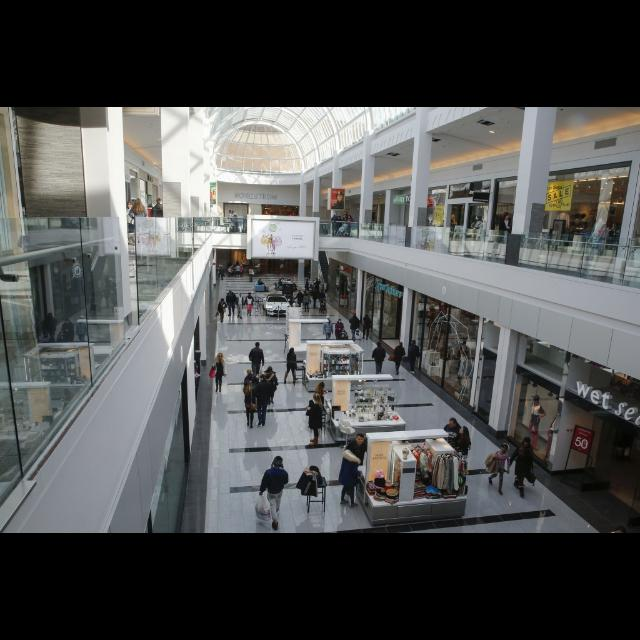head: (274, 457, 284, 469), (350, 444, 360, 456), (356, 434, 366, 446), (449, 419, 457, 429), (459, 427, 469, 435), (501, 443, 509, 453), (524, 438, 532, 448), (313, 393, 321, 402), (258, 375, 266, 383), (135, 198, 143, 206), (504, 212, 512, 220), (319, 383, 325, 391), (244, 380, 252, 386), (247, 368, 253, 376), (65, 318, 71, 326), (218, 354, 224, 361), (157, 198, 163, 205), (411, 341, 417, 347), (128, 202, 134, 208), (268, 367, 272, 373), (256, 342, 260, 348), (339, 318, 343, 324), (48, 314, 54, 318), (80, 316, 84, 322), (290, 348, 294, 352), (378, 342, 382, 346), (399, 342, 403, 346), (365, 314, 369, 318), (354, 313, 358, 317), (326, 317, 330, 321), (228, 290, 232, 294), (249, 293, 253, 297), (338, 216, 342, 220), (348, 216, 352, 220), (222, 299, 224, 303), (240, 293, 242, 297), (298, 292, 302, 294), (306, 293, 308, 297), (316, 290, 318, 294), (322, 290, 324, 294), (334, 214, 338, 216), (251, 269, 253, 271), (231, 266, 233, 268), (238, 264, 240, 266)
person: (252, 455, 290, 533), (504, 435, 540, 501), (342, 432, 373, 498), (336, 443, 364, 511), (440, 415, 474, 469), (483, 441, 512, 497), (304, 392, 326, 448), (254, 374, 276, 428), (127, 196, 149, 244), (208, 350, 230, 394), (242, 379, 260, 431), (453, 426, 472, 474), (260, 366, 280, 408), (242, 368, 260, 414), (496, 210, 514, 256), (313, 381, 329, 432), (40, 312, 60, 350), (247, 341, 265, 383), (122, 200, 138, 246), (388, 340, 408, 376), (149, 197, 167, 237), (283, 347, 299, 388), (369, 340, 386, 376), (60, 316, 76, 350), (74, 314, 90, 348), (407, 339, 421, 377), (214, 298, 228, 326), (322, 315, 334, 347), (348, 312, 360, 342), (234, 292, 246, 321), (360, 313, 372, 341), (334, 318, 346, 346), (226, 290, 238, 318), (244, 292, 256, 318), (331, 210, 342, 238), (292, 290, 306, 308), (302, 292, 312, 314), (312, 288, 321, 310), (333, 215, 342, 237), (346, 214, 354, 238), (318, 290, 327, 310), (248, 267, 256, 283), (234, 262, 242, 278), (228, 264, 236, 278)
